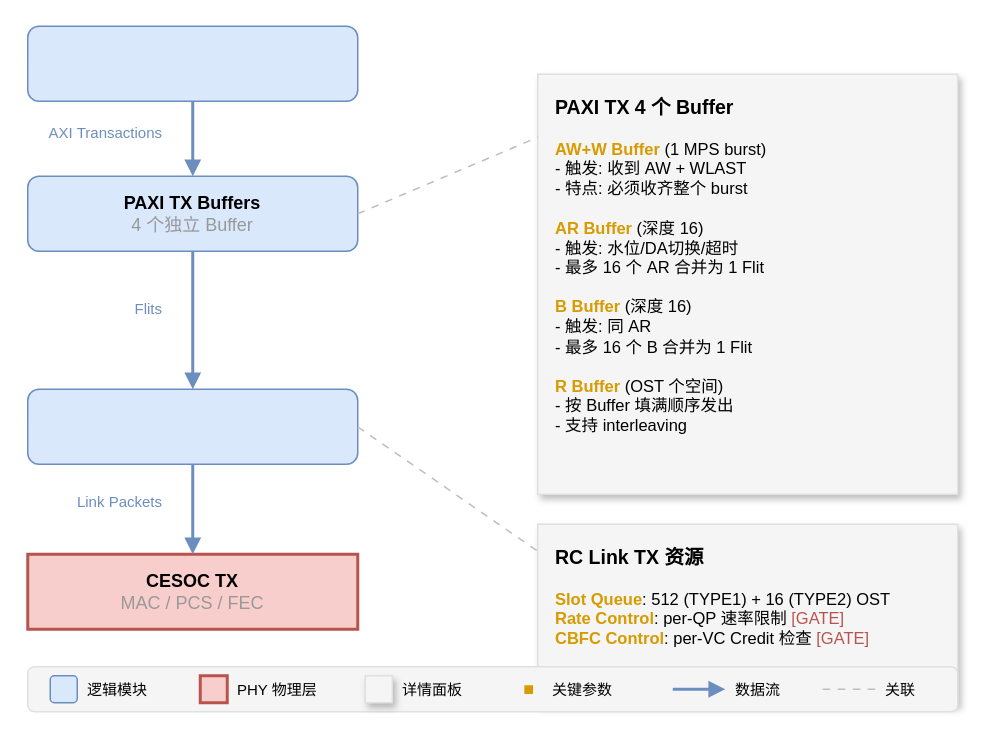
Image size: 993x741. Some labels were removed from this diagram. The centre of each missing label's shape, as x and y in pixels:
"AXI Interface AXI AW/W/AR/B/R 通道" belongs at (192,63).
"RC Link TX Slot Queue + 流控" belongs at (192,426).
